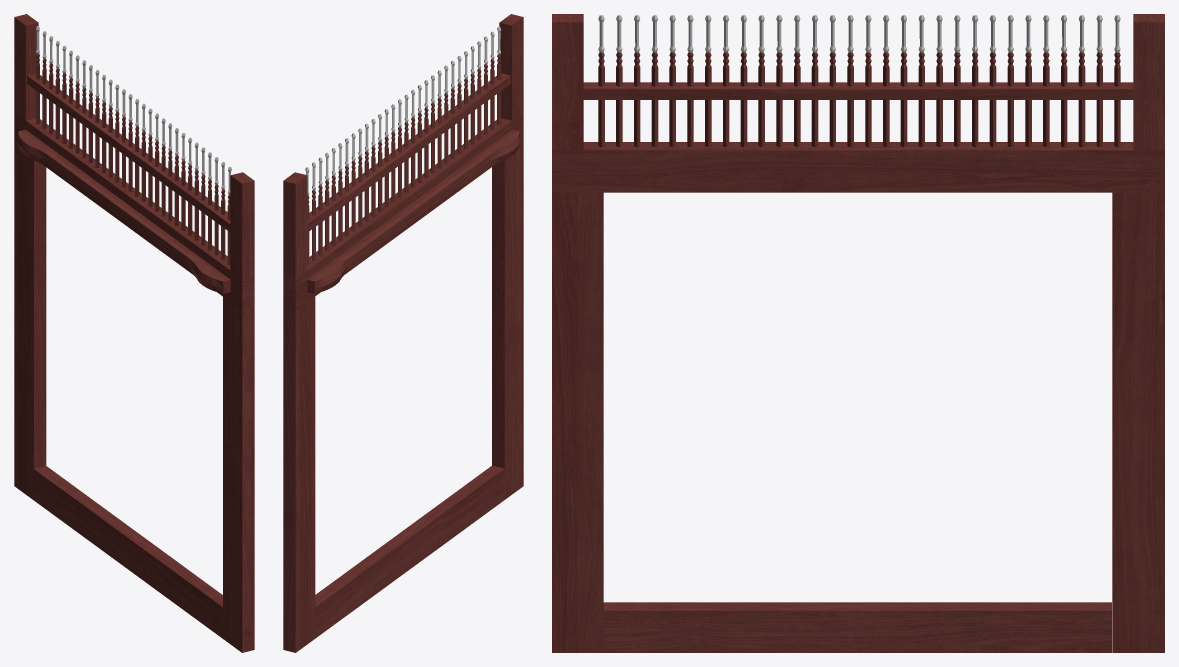
File: SM_DoorFrame01F.fbx
The picture shows the model from 3 angles, left to right: view 1: azimuth 30°, elevation 25°; view 2: azimuth 150°, elevation 25°; view 3: azimuth 270°, elevation 25°; orthographic projection. The views are drawn at different scales.
Visible parts, largest first — view 1: SM_DoorFrame01F; view 2: SM_DoorFrame01F; view 3: SM_DoorFrame01F.
Part boxes in pixels (x1=…): SM_DoorFrame01F: x1=14, y1=14, x2=254, y2=652; SM_DoorFrame01F: x1=283, y1=14, x2=523, y2=652; SM_DoorFrame01F: x1=552, y1=14, x2=1164, y2=652.
Size of the model in its own units: 21.63 by 302 by 344.
